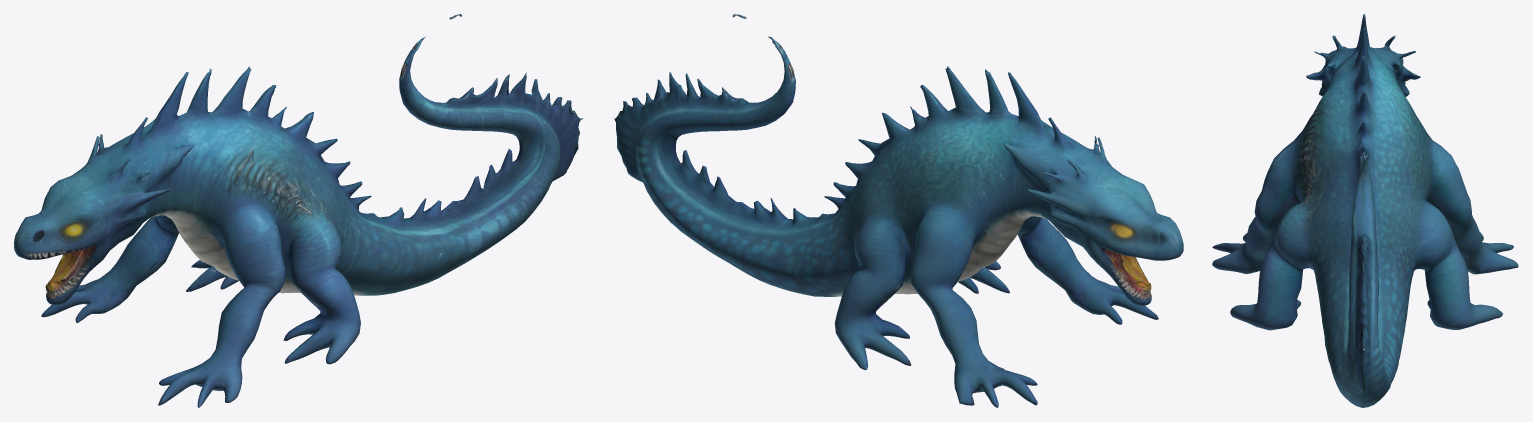
The model's file is ice_monster.glb.
3 renders of one model, left to right at view 1: azimuth 30°, elevation 25°; view 2: azimuth 150°, elevation 25°; view 3: azimuth 270°, elevation 25°, orthographic.
Size of the model in its own units: 1.98 by 0.898 by 0.9277.
1 material, 1 textured.
